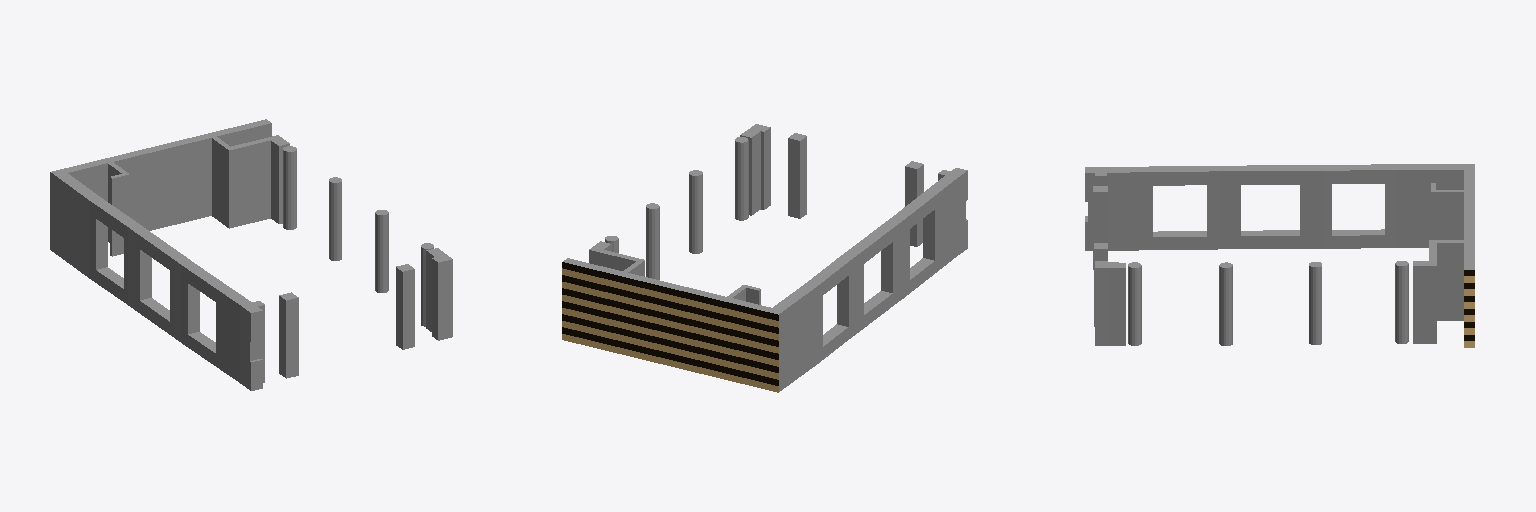
3 renders of one model, left to right at view 1: azimuth 30°, elevation 25°; view 2: azimuth 150°, elevation 25°; view 3: azimuth 270°, elevation 25°, orthographic.
Parts seen in each view (by area): view 1: salon_f1_Cube_Cube.000; view 2: salon_f1_Cube_Cube.000; view 3: salon_f1_Cube_Cube.000.
Boxes of the visible parts, <box> form: salon_f1_Cube_Cube.000: <box>50,119,452,390</box>; salon_f1_Cube_Cube.000: <box>562,124,967,392</box>; salon_f1_Cube_Cube.000: <box>1085,164,1474,347</box>.
Size of the model in its own units: 6.37 by 2.2 by 9.96.
Materials: 5 (1 with a texture image).